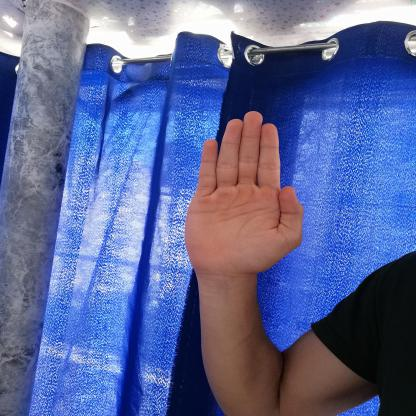SEEN: (178, 103, 310, 280)
